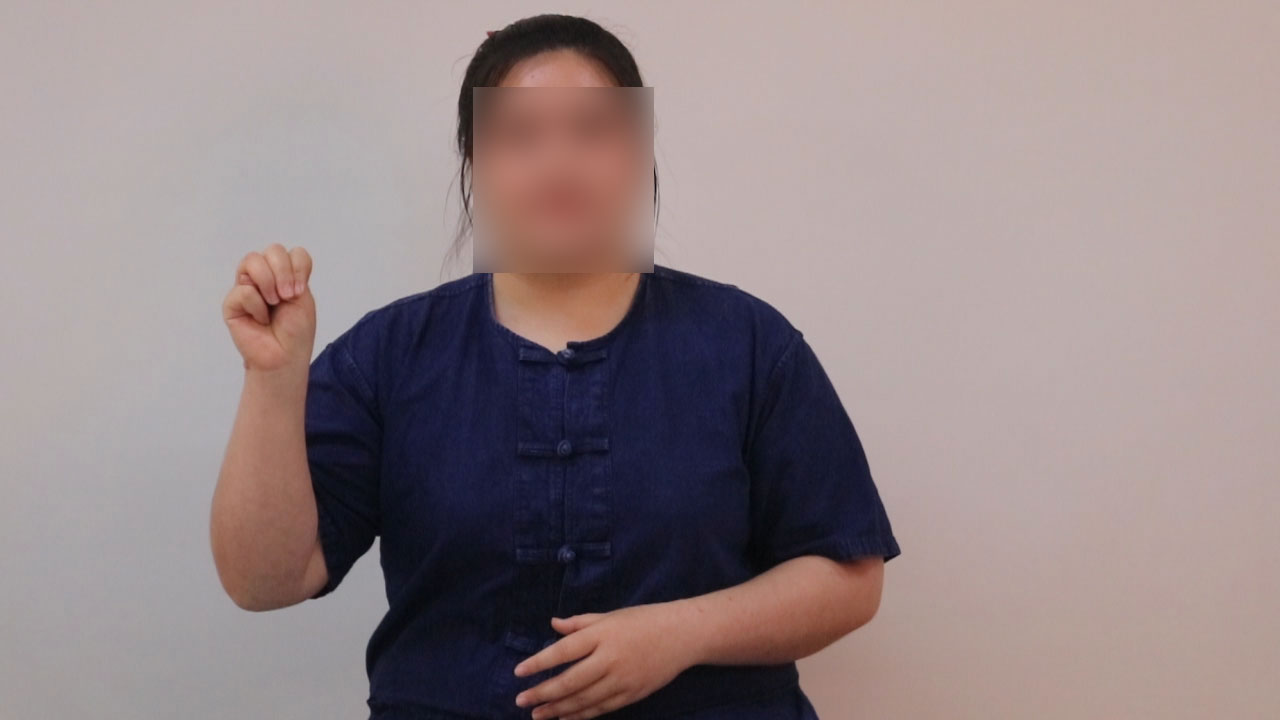mor: (211, 229, 328, 389)
